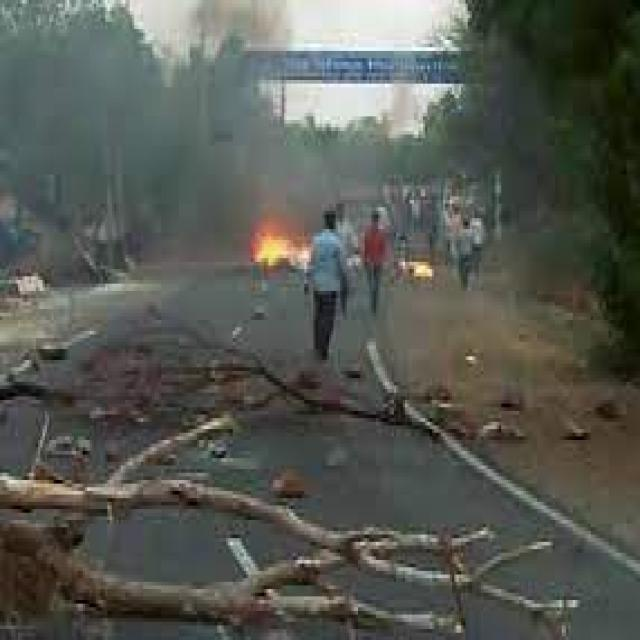Fire: (251, 222, 315, 268), (400, 260, 438, 283)
Smoke: (1, 0, 332, 221), (472, 51, 567, 283), (398, 286, 568, 401), (170, 224, 256, 280), (335, 136, 395, 207), (381, 80, 426, 138)
